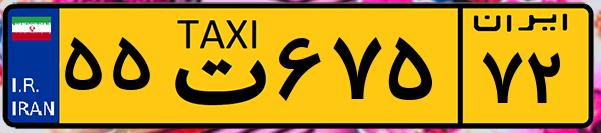2: (525, 38, 570, 115)
5: (385, 28, 445, 110), (57, 26, 110, 100), (110, 28, 158, 98)
6: (270, 28, 330, 110)
7: (330, 28, 385, 110), (475, 38, 525, 113)
ت: (158, 12, 270, 120)
